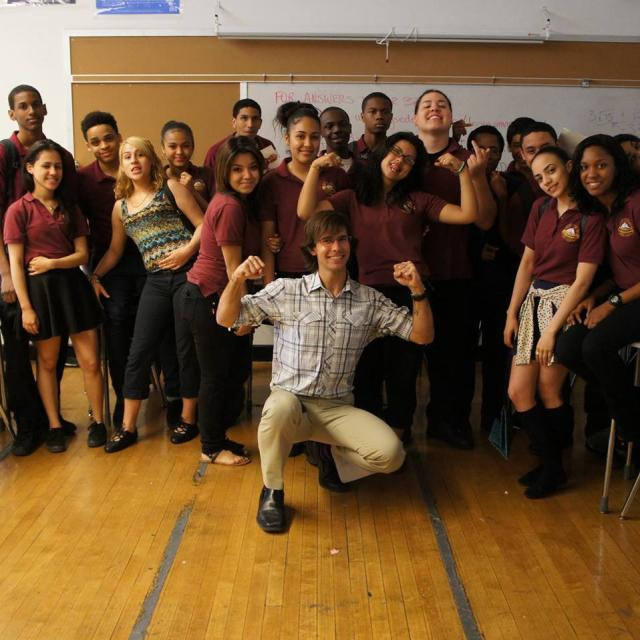body: (211, 207, 436, 537), (292, 130, 481, 470), (500, 144, 612, 503), (86, 134, 211, 455), (70, 107, 186, 434), (175, 134, 284, 470), (0, 134, 114, 455), (401, 87, 498, 452), (0, 80, 80, 458), (550, 130, 639, 444), (450, 117, 525, 446), (253, 99, 354, 290), (502, 121, 560, 269), (201, 97, 284, 198), (316, 105, 378, 205), (159, 119, 216, 215), (347, 92, 399, 172), (494, 115, 538, 197), (601, 113, 640, 188)
